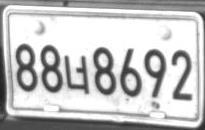2: (170, 49, 192, 100)
6: (119, 48, 142, 96)
8: (38, 43, 63, 93), (92, 46, 116, 95), (14, 42, 37, 92)
9: (143, 48, 166, 97)
너: (64, 55, 89, 94)
